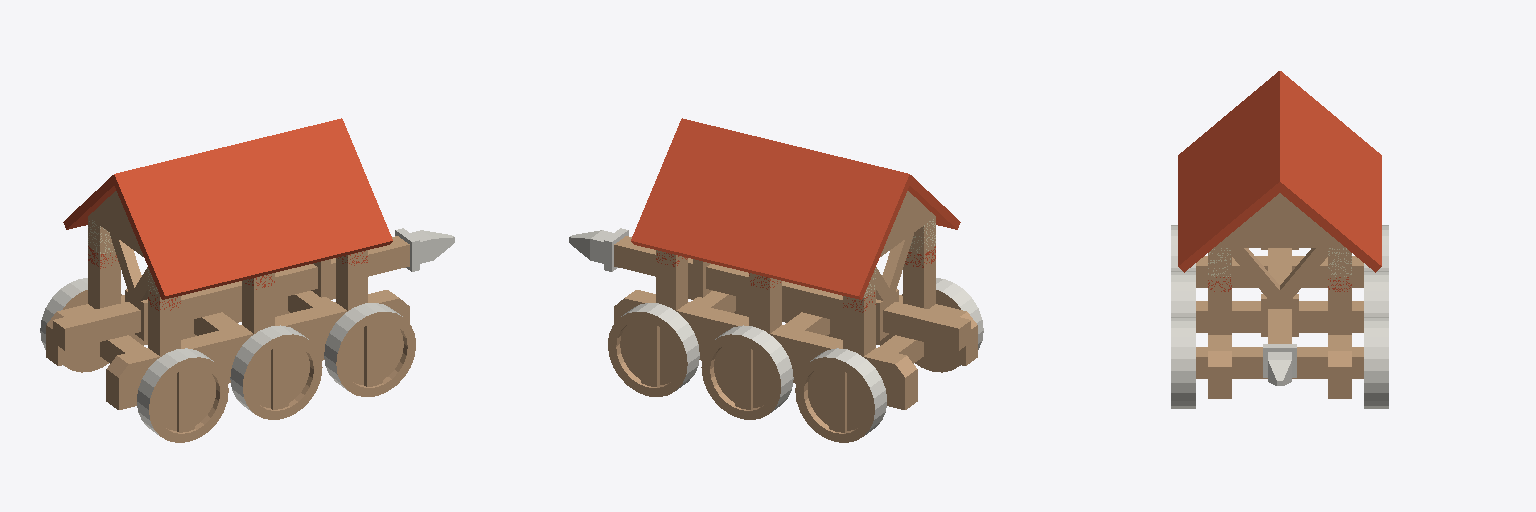
Rendered from siegeRamRed.obj.
3 renders of one model, left to right at view 1: azimuth 30°, elevation 25°; view 2: azimuth 150°, elevation 25°; view 3: azimuth 270°, elevation 25°, orthographic.
Visible parts, largest first — view 1: body 7, ram 1, wheelBackRight 9, wheelFrontRight 12, wheelMidRight 2, wheelBackLeft 9; view 2: body 7, ram 1, wheelBackLeft 9, wheelFrontLeft 12, wheelMidLeft 2, wheelBackRight 9; view 3: body 7, ram 1, wheelFrontLeft 12, wheelFrontRight 12, wheelMidLeft 2, wheelMidRight 2.
Boxes of the visible parts, box(x1,y1,x2,y2) form: body 7: box(46, 118, 409, 409); ram 1: box(53, 228, 454, 350); wheelBackRight 9: box(137, 348, 228, 442); wheelFrontRight 12: box(324, 303, 415, 396); wheelMidRight 2: box(230, 325, 322, 419); wheelBackLeft 9: box(40, 278, 121, 372); body 7: box(614, 118, 977, 409); ram 1: box(569, 228, 970, 350); wheelBackLeft 9: box(795, 348, 886, 442); wheelFrontLeft 12: box(608, 303, 699, 396); wheelMidLeft 2: box(701, 325, 793, 419); wheelBackRight 9: box(902, 278, 983, 372); body 7: box(1178, 71, 1381, 398); ram 1: box(1263, 248, 1296, 385); wheelFrontLeft 12: box(1364, 317, 1388, 408); wheelFrontRight 12: box(1171, 317, 1195, 408); wheelMidLeft 2: box(1364, 271, 1388, 316); wheelMidRight 2: box(1171, 271, 1195, 316).
Bounding box in the file's own units: 19.87 × 11.22 × 9.47.